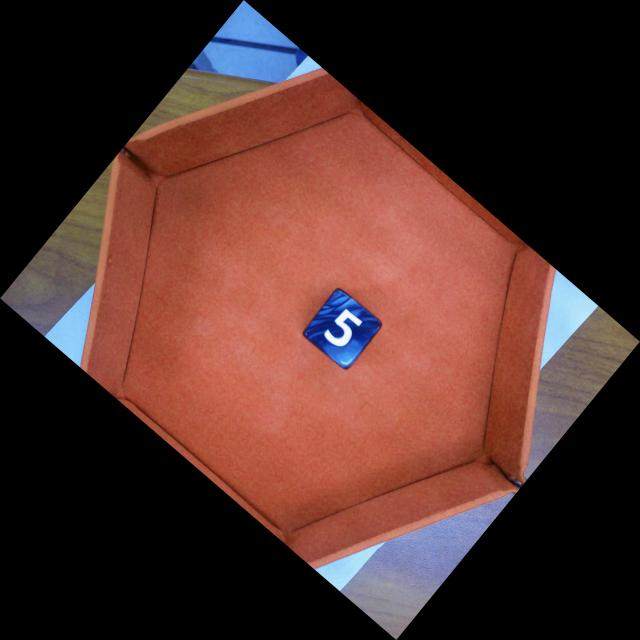dice: (305, 288, 384, 370)
